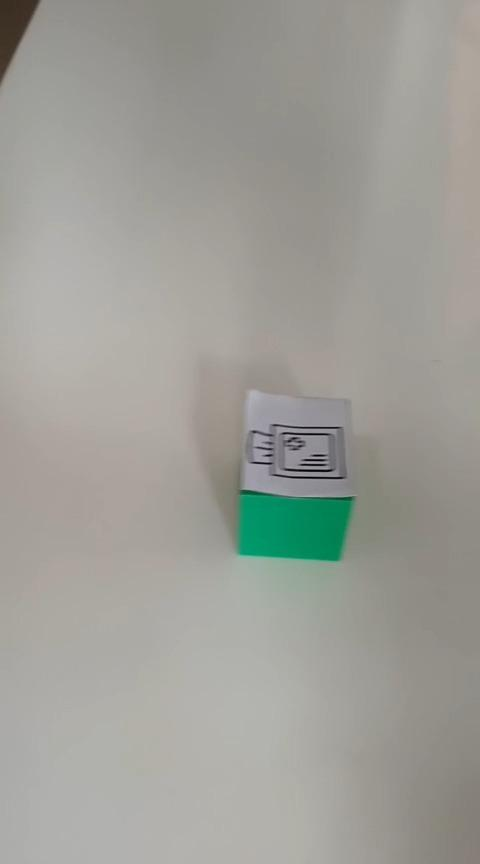Gauze: (235, 387, 358, 562)
